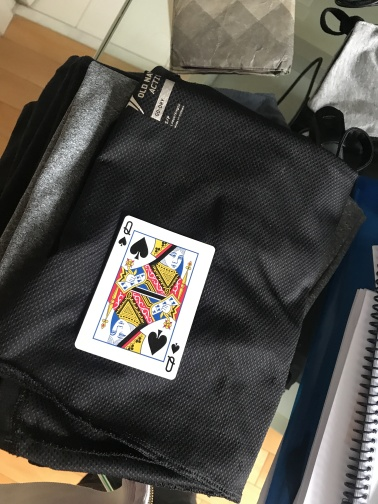queen: (74, 214, 218, 382)
